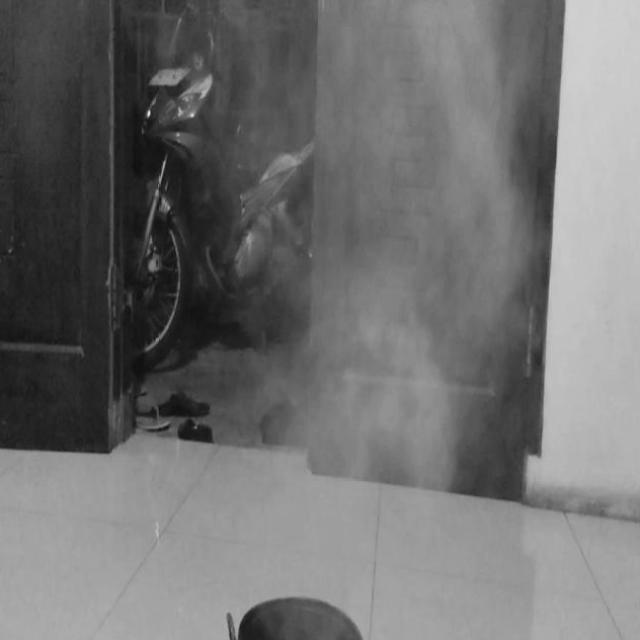fire: (283, 0, 532, 509)
